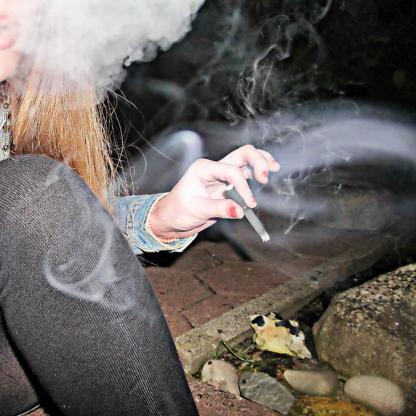smoking: (226, 184, 270, 242)
